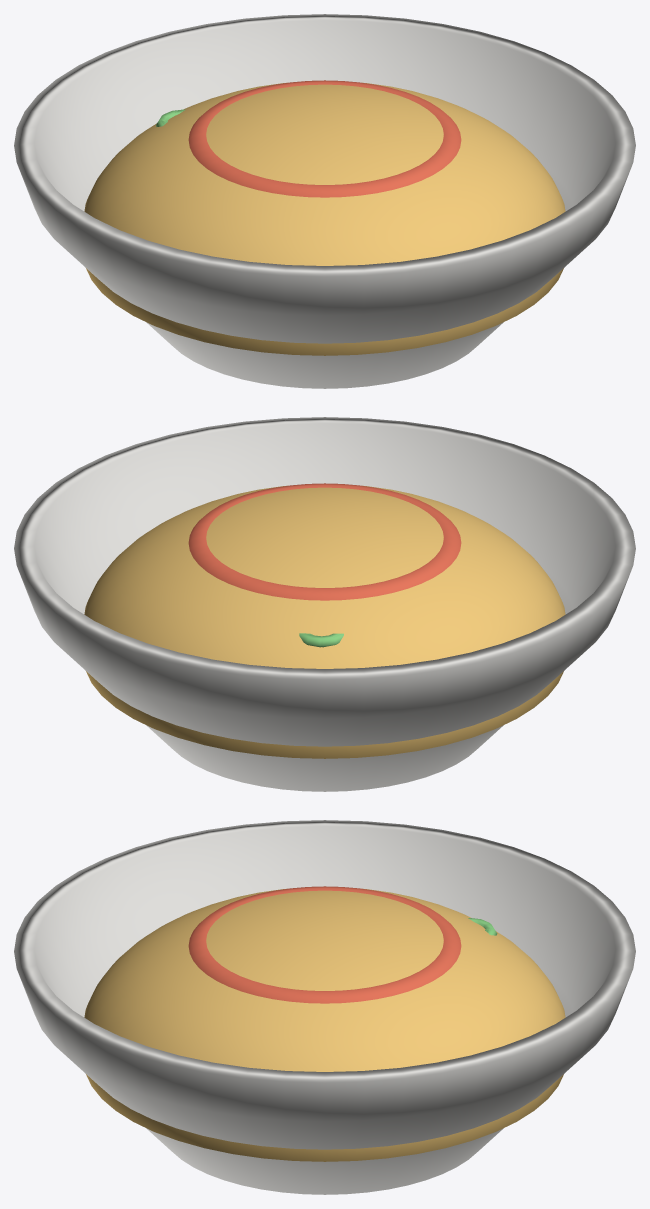
The model's file is gourmet-wok-bowl-high.glb.
3 views of the same model, one above another, from view 1: azimuth 30°, elevation 25°; view 2: azimuth 150°, elevation 25°; view 3: azimuth 270°, elevation 25° (orthographic).
Visible parts, largest first — view 1: gourmet-wok-bowl_Mat_Ceramic_Plate_Node, gourmet-wok-bowl_Mat_Fried_Food_Node, gourmet-wok-bowl_Mat_Glossy_Sauce_Node; view 2: gourmet-wok-bowl_Mat_Ceramic_Plate_Node, gourmet-wok-bowl_Mat_Fried_Food_Node, gourmet-wok-bowl_Mat_Glossy_Sauce_Node; view 3: gourmet-wok-bowl_Mat_Ceramic_Plate_Node, gourmet-wok-bowl_Mat_Fried_Food_Node, gourmet-wok-bowl_Mat_Glossy_Sauce_Node.
Part boxes in pixels (x1,y1,x2,y2): gourmet-wok-bowl_Mat_Ceramic_Plate_Node: (14, 14, 635, 388); gourmet-wok-bowl_Mat_Fried_Food_Node: (84, 82, 565, 355); gourmet-wok-bowl_Mat_Glossy_Sauce_Node: (188, 80, 461, 197); gourmet-wok-bowl_Mat_Ceramic_Plate_Node: (14, 417, 635, 791); gourmet-wok-bowl_Mat_Fried_Food_Node: (84, 485, 565, 758); gourmet-wok-bowl_Mat_Glossy_Sauce_Node: (188, 483, 461, 600); gourmet-wok-bowl_Mat_Ceramic_Plate_Node: (14, 820, 635, 1194); gourmet-wok-bowl_Mat_Fried_Food_Node: (84, 888, 565, 1161); gourmet-wok-bowl_Mat_Glossy_Sauce_Node: (188, 886, 461, 1003).
Size of the model in its own units: 0.244 by 0.0859 by 0.244.
